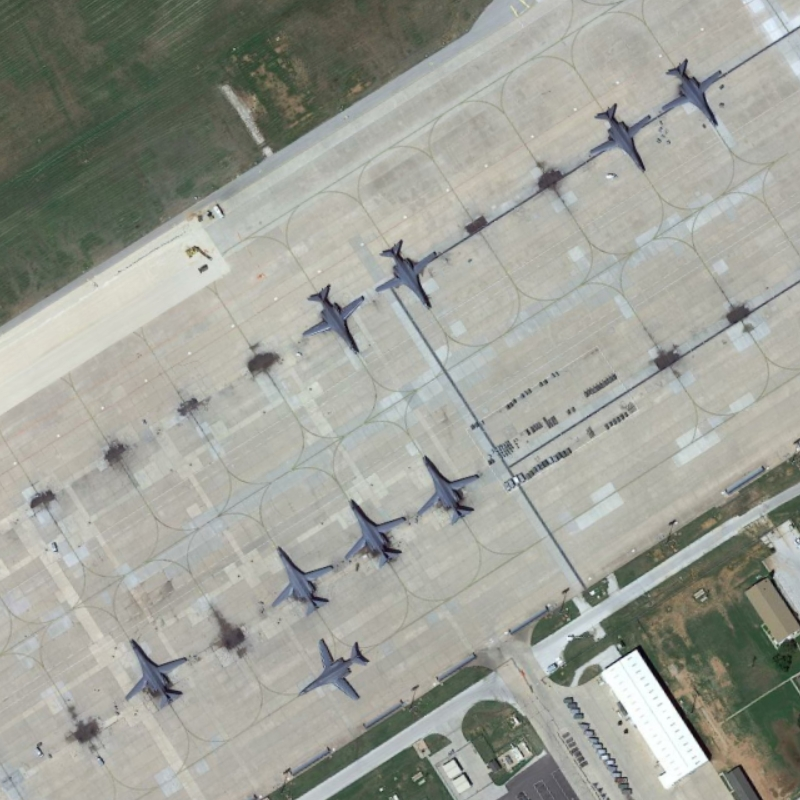A10: (115, 624, 204, 713), (263, 539, 343, 626), (372, 233, 449, 322), (654, 52, 734, 136), (295, 277, 374, 357), (411, 445, 484, 529), (296, 632, 376, 707), (583, 100, 657, 178), (336, 496, 411, 572)
